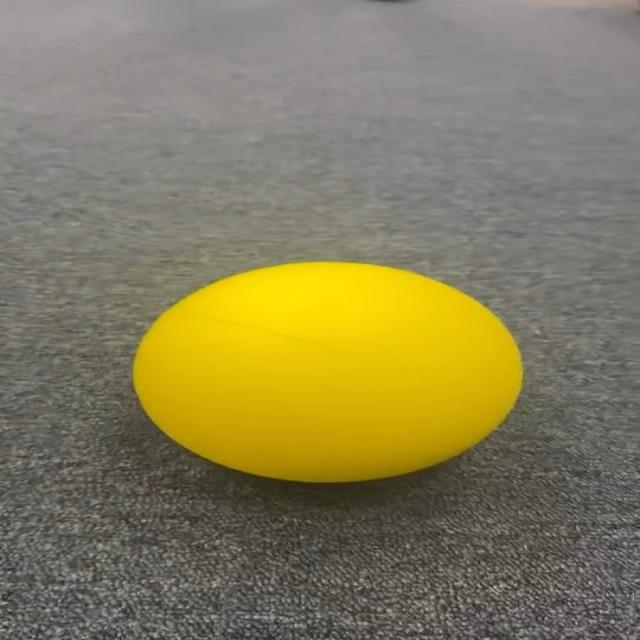Fuels: (134, 262, 520, 480)
